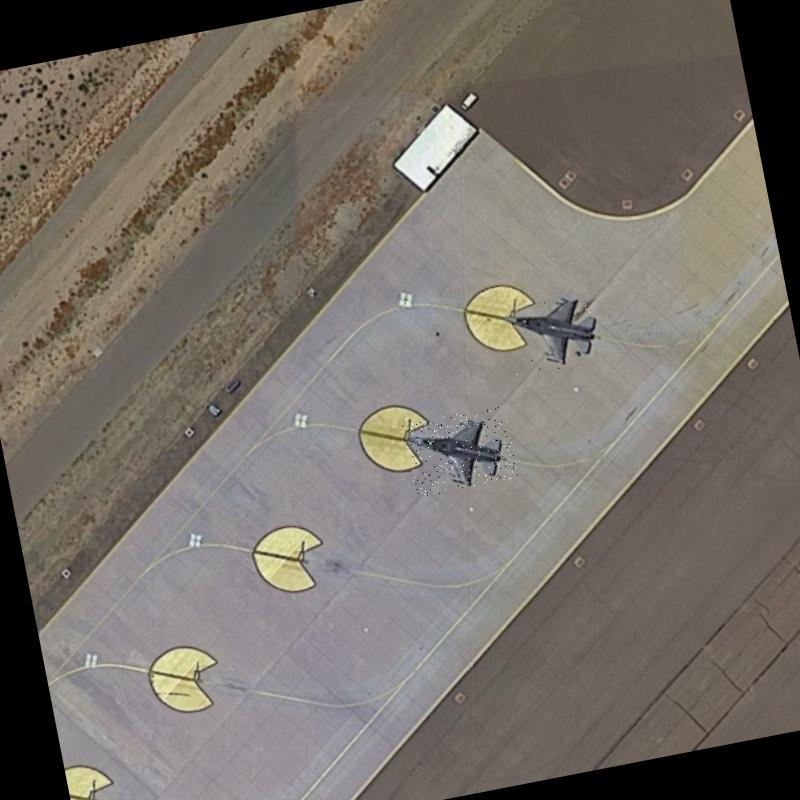A5: (400, 404, 518, 498), (499, 284, 610, 376)
